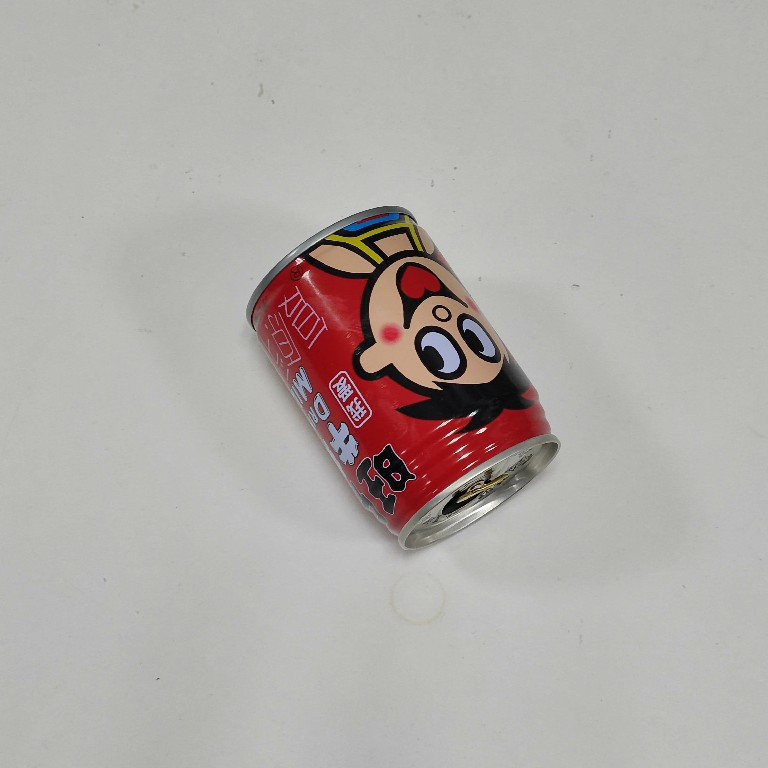can: (243, 202, 564, 557)
